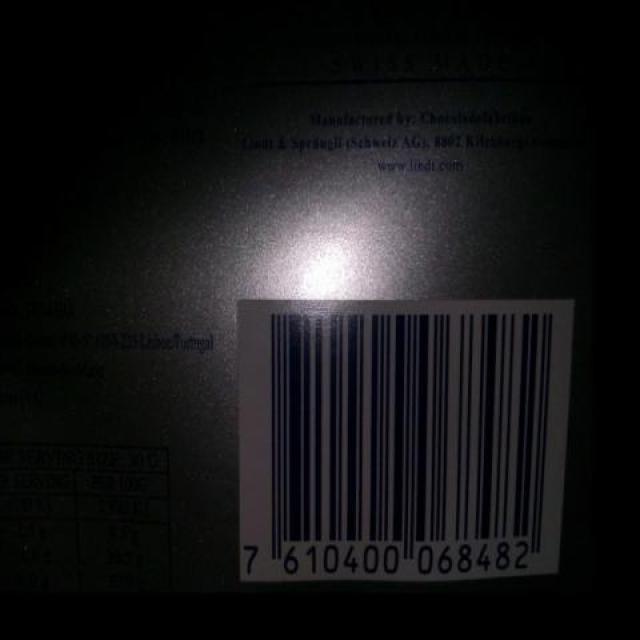Barcode: (236, 298, 575, 581)
